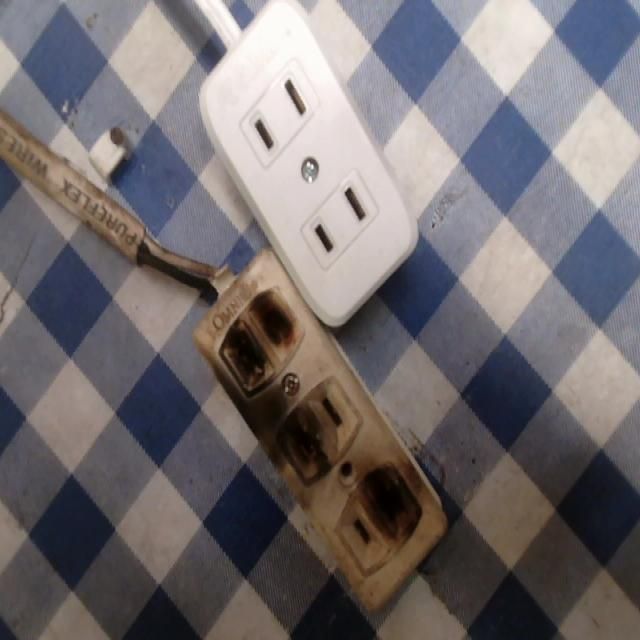-: (213, 282, 309, 402), (352, 456, 425, 545), (271, 404, 328, 496)
